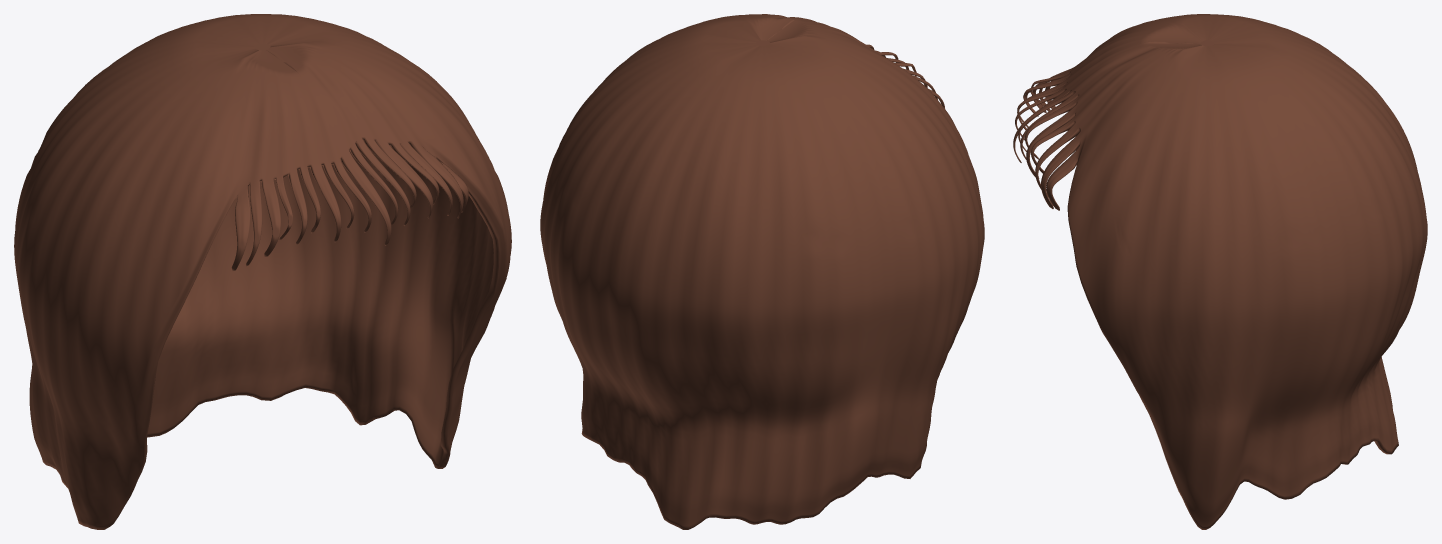
The model's file is side-sweep-cowboy.glb.
3 views of the same model, side by side, from view 1: azimuth 30°, elevation 25°; view 2: azimuth 150°, elevation 25°; view 3: azimuth 270°, elevation 25° (orthographic). The views are drawn at different scales.
Visible parts, largest first — view 1: Wispy bangs / continuous crown; view 2: Wispy bangs / continuous crown; view 3: Wispy bangs / continuous crown.
Boxes of the visible parts, bbox=[...] form: Wispy bangs / continuous crown: bbox=[14, 14, 511, 529]; Wispy bangs / continuous crown: bbox=[540, 14, 984, 529]; Wispy bangs / continuous crown: bbox=[1013, 14, 1427, 529].
Size of the model in its own units: 0.8388 by 0.8726 by 0.7867.
